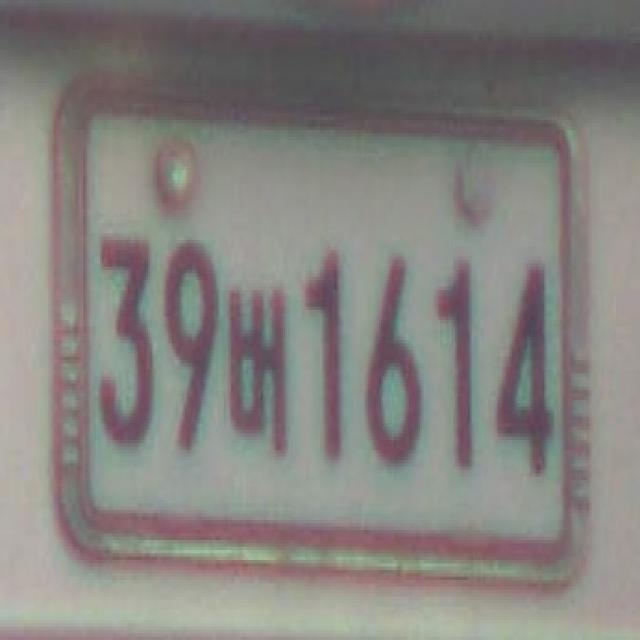1: (437, 260, 479, 477), (305, 250, 348, 460)
3: (94, 230, 156, 443)
4: (490, 260, 555, 477)
6: (361, 253, 422, 457)
9: (161, 233, 216, 450)
beo: (222, 280, 292, 463)
license_plate: (76, 86, 575, 556)
